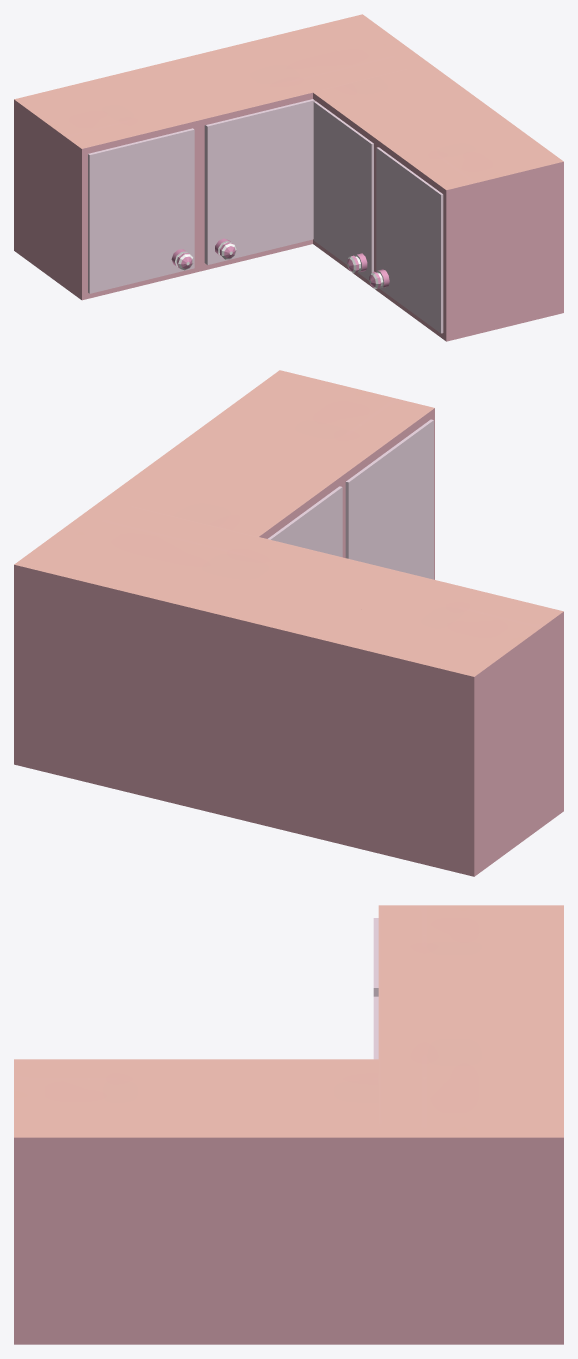
Rendered from Cabinet_Pink_Upper.fbx.
3 renders of one model, top to bottom at view 1: azimuth 30°, elevation 25°; view 2: azimuth 150°, elevation 25°; view 3: azimuth 270°, elevation 25°, orthographic. The views are drawn at different scales.
Parts seen in each view (by area): view 1: Cabinet_Pink_Upper, Cabinet_Pink_Upper02, Cabinet_Pink_Upper01, Cabinet_Pink_Upper04, Cabinet_Pink_Upper03; view 2: Cabinet_Pink_Upper, Cabinet_Pink_Upper04, Cabinet_Pink_Upper03; view 3: Cabinet_Pink_Upper.
Part boxes in pixels (x1,y1,x2,y2): Cabinet_Pink_Upper: [14, 14, 563, 341]; Cabinet_Pink_Upper02: [204, 99, 314, 264]; Cabinet_Pink_Upper01: [88, 128, 194, 293]; Cabinet_Pink_Upper04: [369, 147, 443, 333]; Cabinet_Pink_Upper03: [313, 101, 373, 280]; Cabinet_Pink_Upper: [14, 370, 563, 876]; Cabinet_Pink_Upper04: [345, 419, 433, 579]; Cabinet_Pink_Upper03: [268, 486, 342, 557]; Cabinet_Pink_Upper: [14, 905, 563, 1344].
Size of the model in its own units: 200 by 82.98 by 200.
